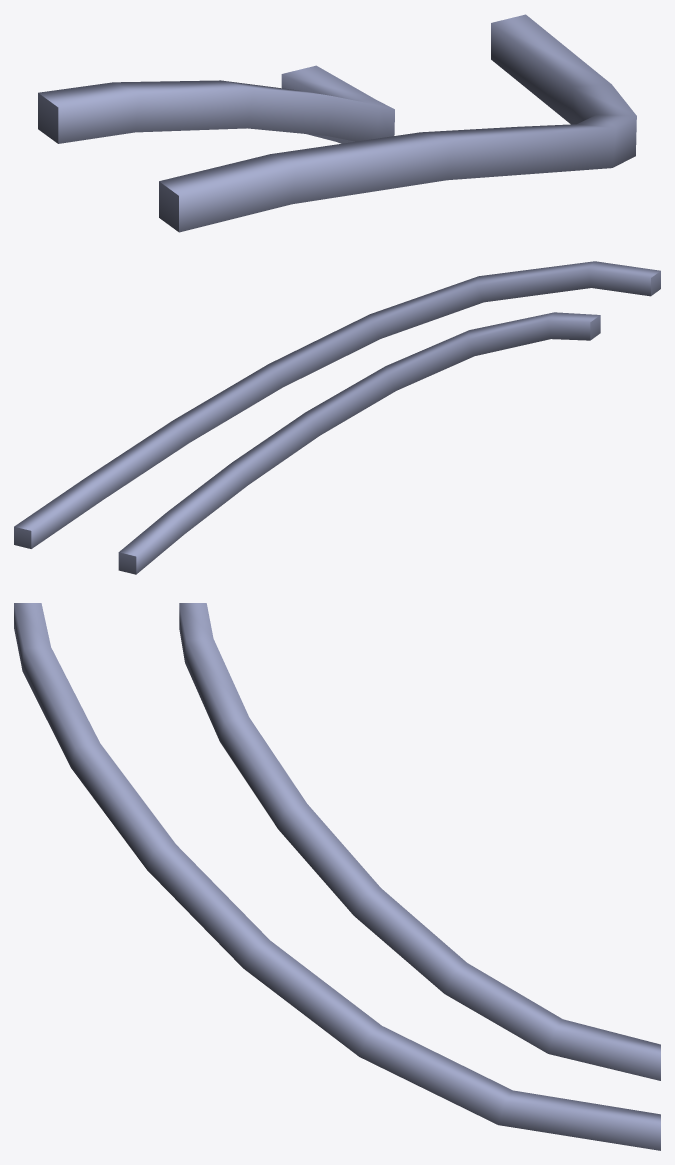
The model's file is railroad-rail-corner-small-ramp.glb.
3 views of the same model, one above another, from view 1: azimuth 30°, elevation 25°; view 2: azimuth 150°, elevation 25°; view 3: azimuth 270°, elevation 25° (orthographic). The views are drawn at different scales.
Parts seen in each view (by area): view 1: railroad-rail-corner-small-ramp; view 2: railroad-rail-corner-small-ramp; view 3: railroad-rail-corner-small-ramp.
Boxes of the visible parts, bbox=[...] form: railroad-rail-corner-small-ramp: bbox=[38, 14, 636, 232]; railroad-rail-corner-small-ramp: bbox=[14, 261, 660, 574]; railroad-rail-corner-small-ramp: bbox=[14, 603, 660, 1150].
Size of the model in its own units: 2.35 by 1.1 by 2.35.
